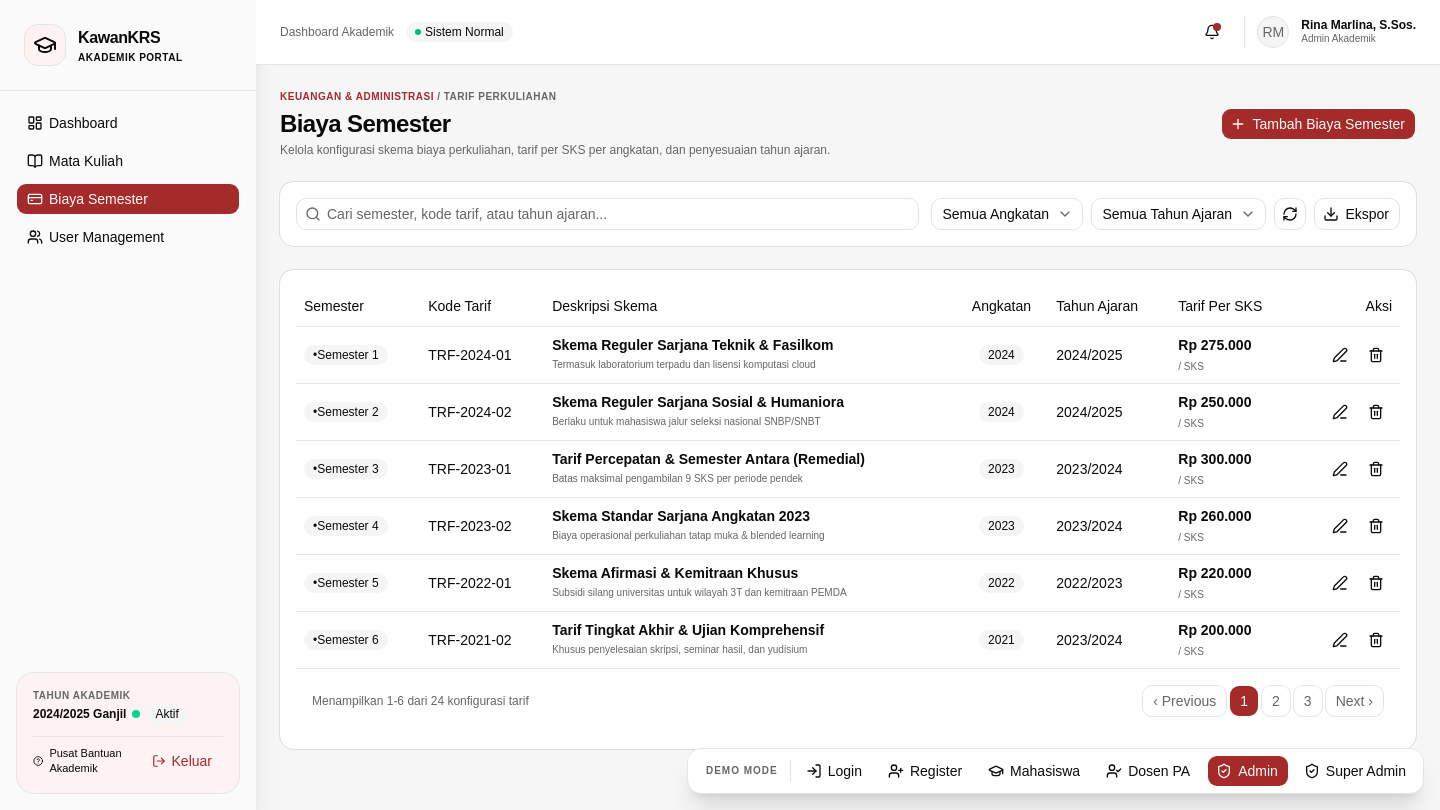
Test: shadcn controls and accessibility › requires explicit confirmation before deleting on /admin/biaya
Click the button named "Hapus" in the row of "Semester 1" at (1376, 354), box x1=1360 y1=338 x2=1392 y2=370
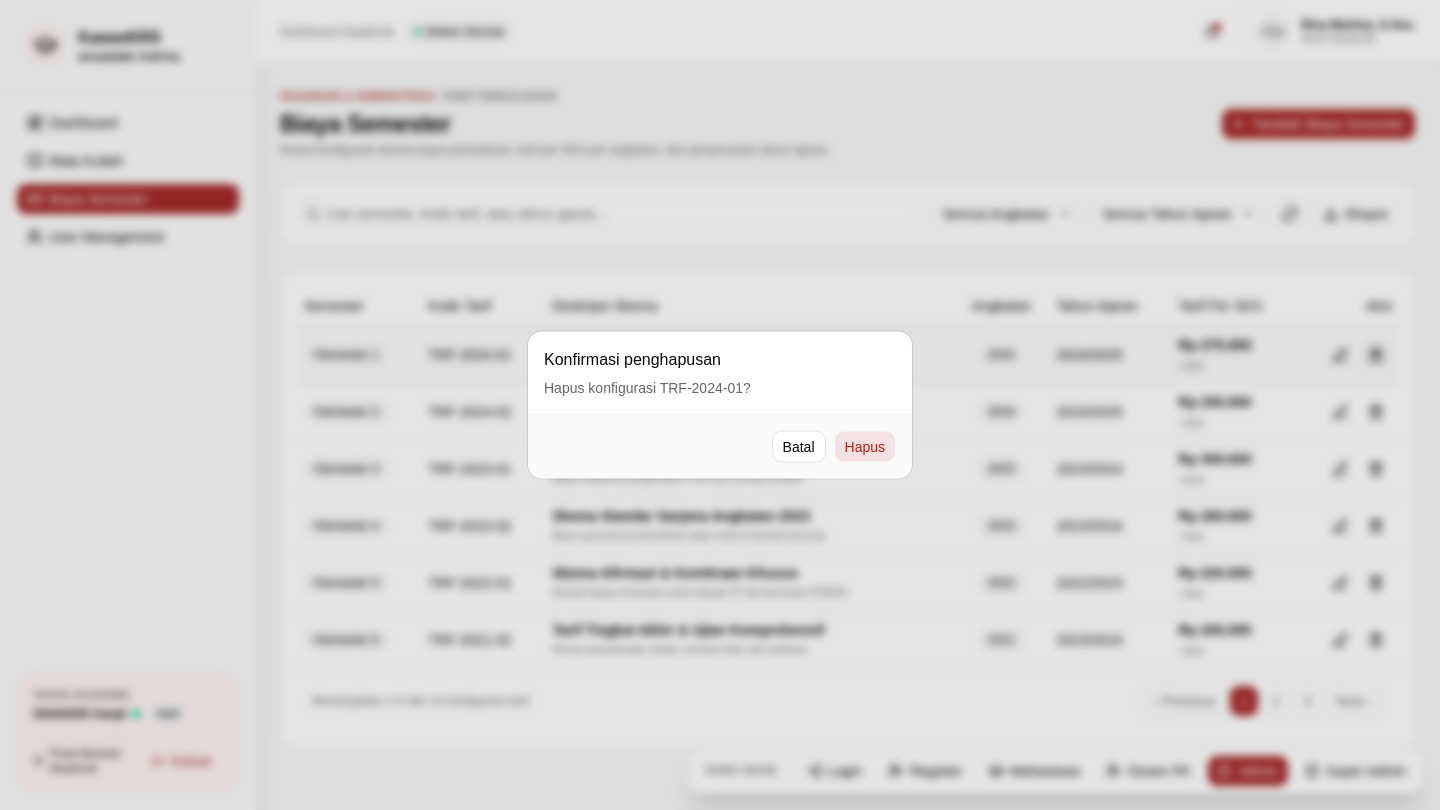
Click the button "Batal" at (799, 446), box x1=772 y1=430 x2=826 y2=462
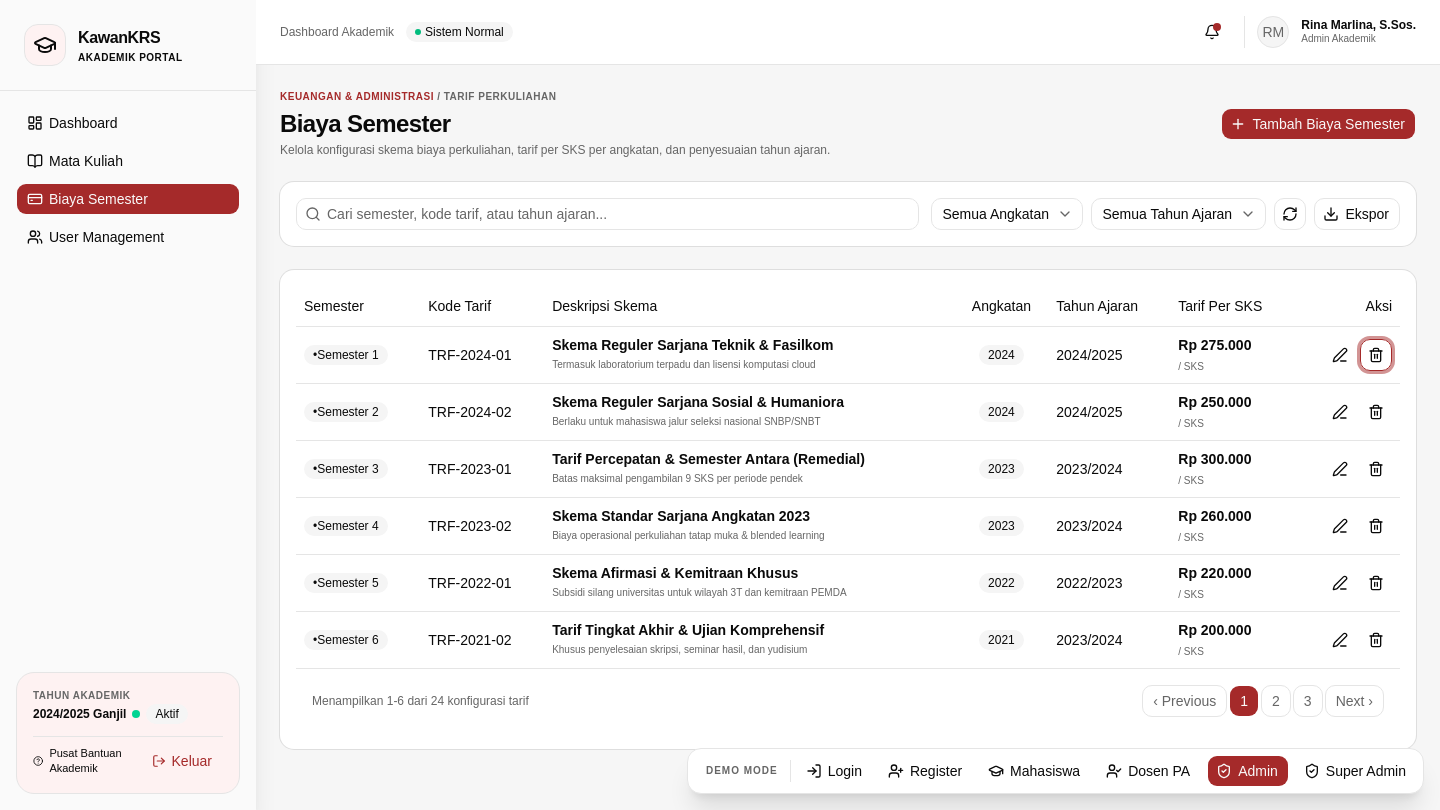
expect the dialog is gone: met
Click the button named "Hapus" in the row of "Semester 1" at (1376, 354), box x1=1360 y1=338 x2=1392 y2=370
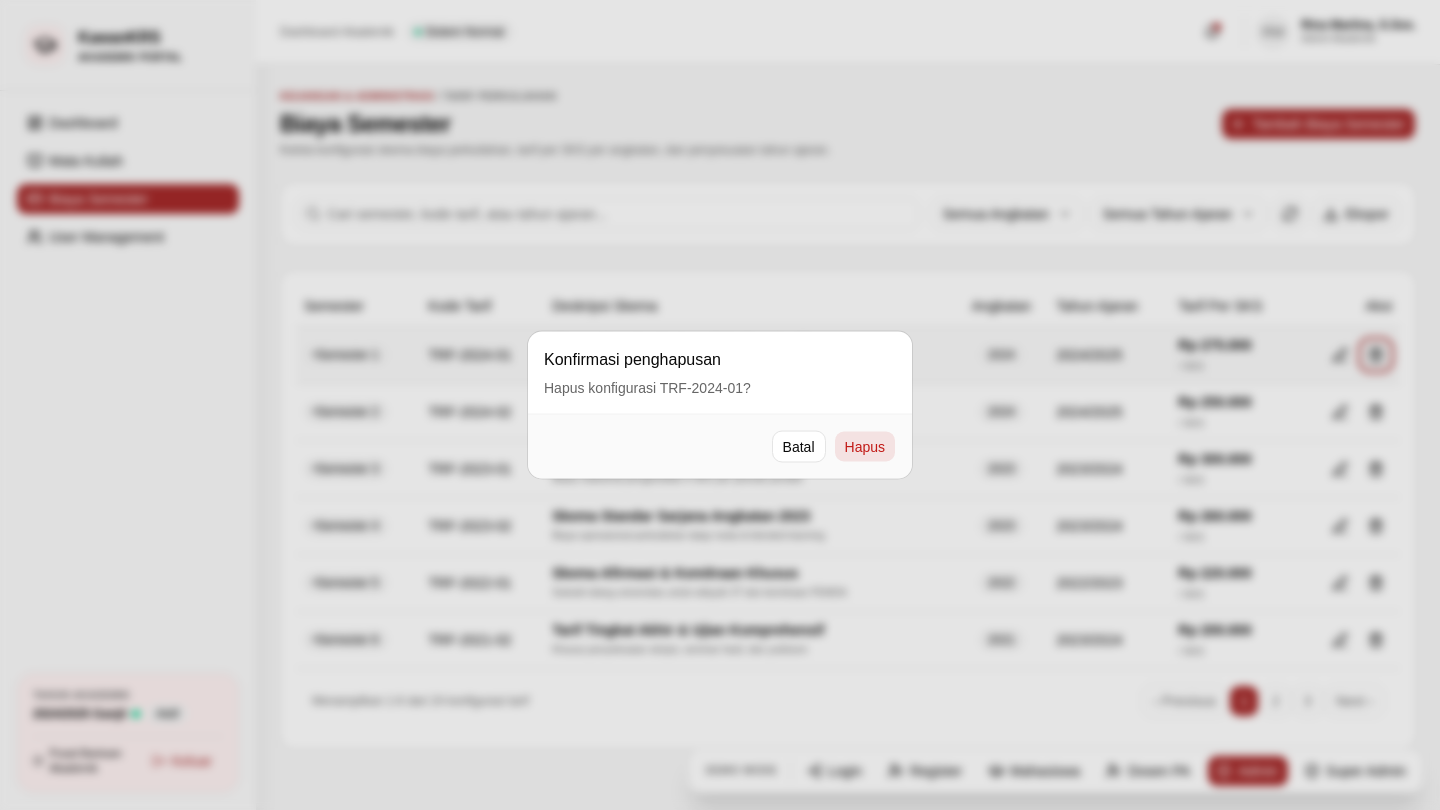
Click the button "Hapus" at (865, 446), box x1=834 y1=430 x2=896 y2=462
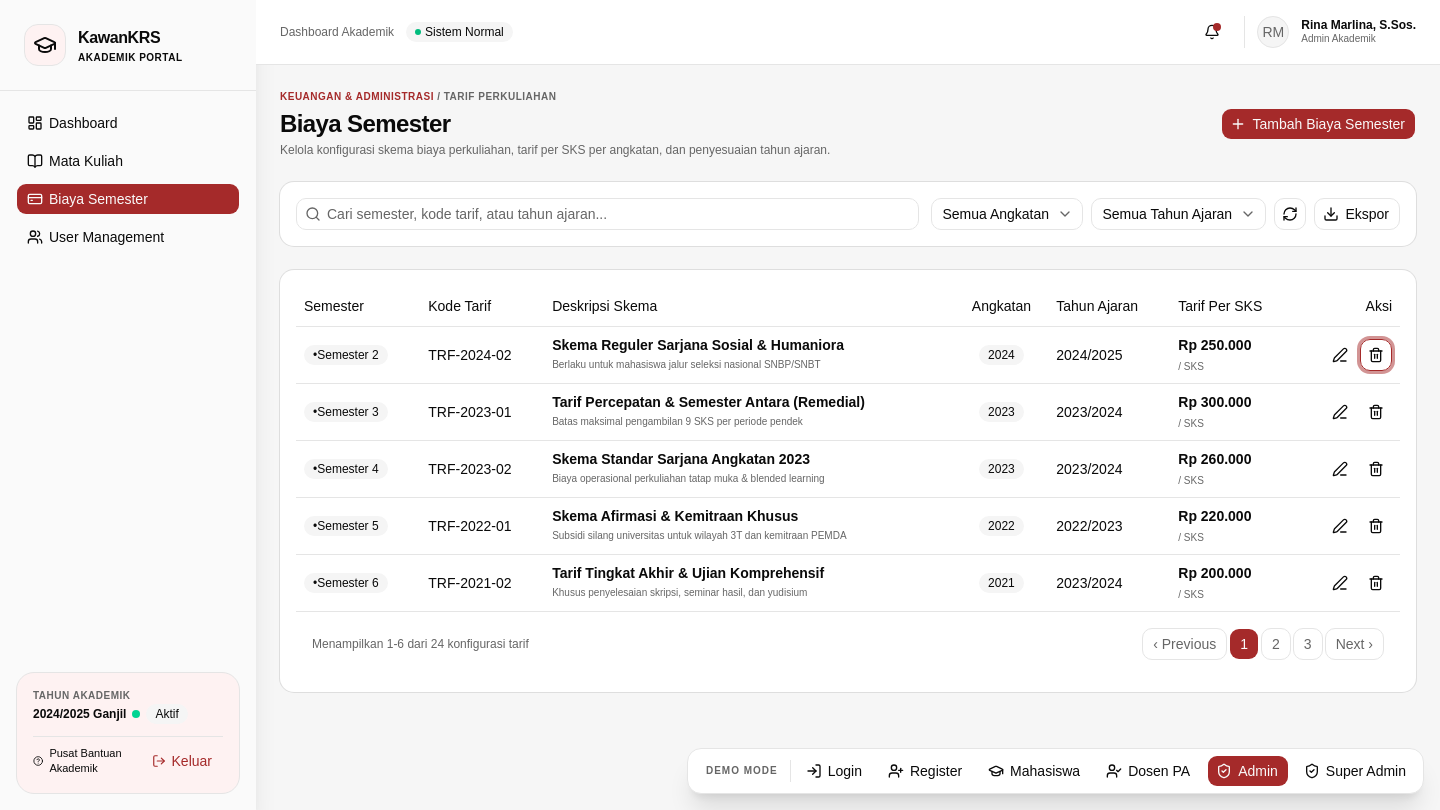
expect the dialog is gone: met
expect the number of rows is 6: met, box x1=296 y1=286 x2=1400 y2=326; x1=296 y1=326 x2=1400 y2=383; x1=296 y1=383 x2=1400 y2=440; x1=296 y1=440 x2=1400 y2=497; x1=296 y1=497 x2=1400 y2=554; x1=296 y1=554 x2=1400 y2=610
